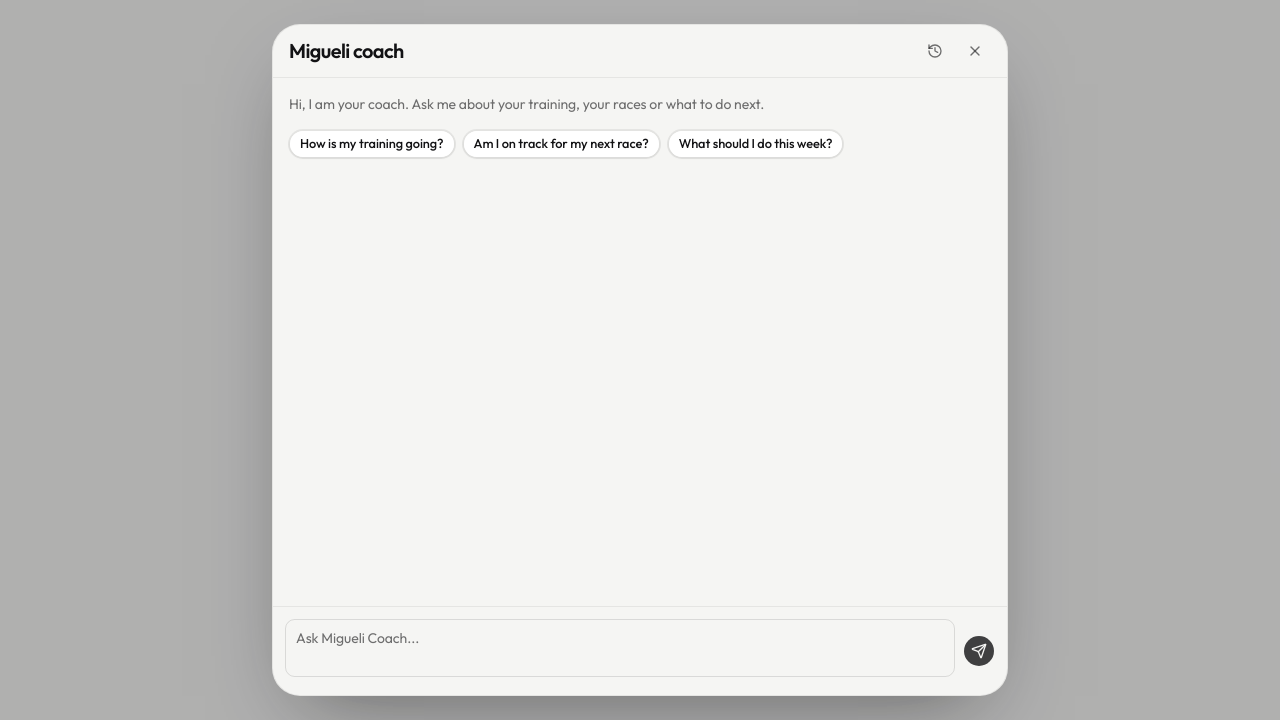
Scenario: CoachChatView › shows the greeting and the three chips, and a chip sends its text
Expected: the text with test id "coach-greeting" is shown, [289,95,764,113]
Click the button with test id "coach-chip".
click(561, 144)  # box [462,130,660,158]
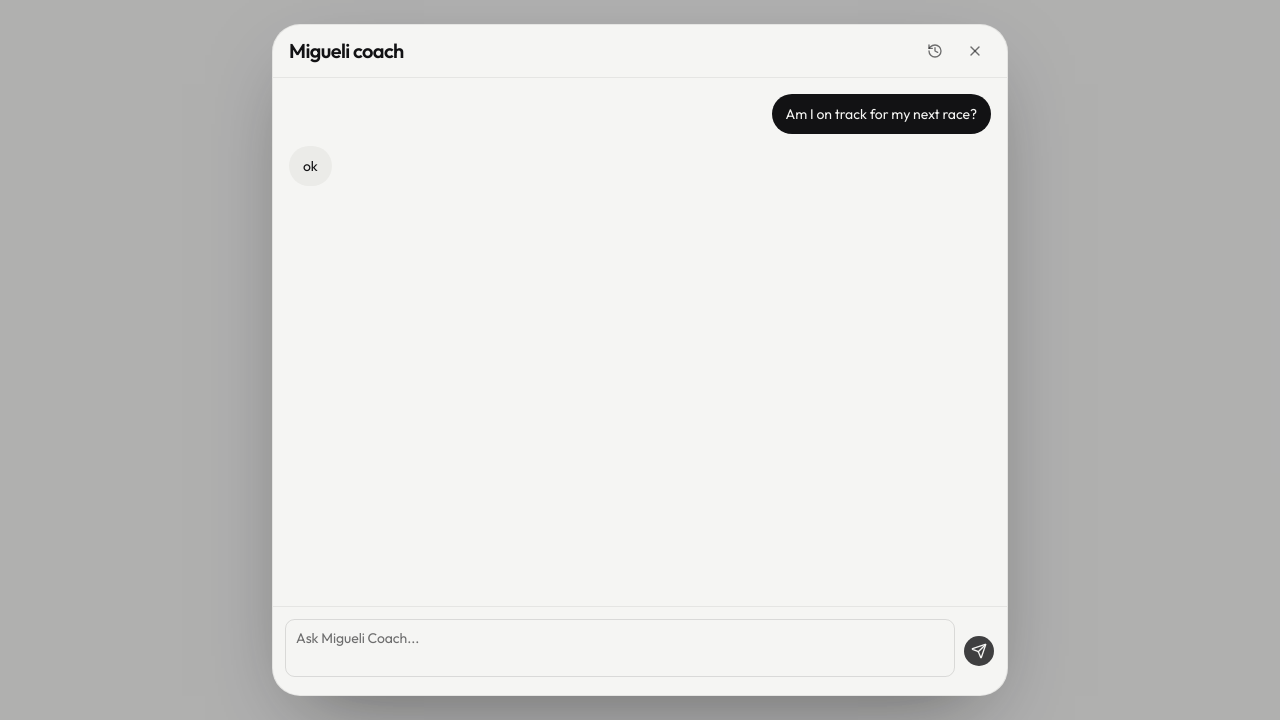
Expected: the text "Am I on track for my next race?" is shown, [786,104,977,124]
Now the element with test id "coach-message-assistant" reads "ok", box [303,157,318,175]
Now the element with test id "coach-empty" is gone
